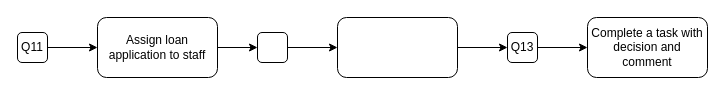
The diagram is 725 pixels wide and 95 high, and some of its shapes have lost their labels. Each missing label, with the centre of its shape:
"Get all pending tasks for a staff" goes at [397,47].
"Q12" goes at [272,47].
